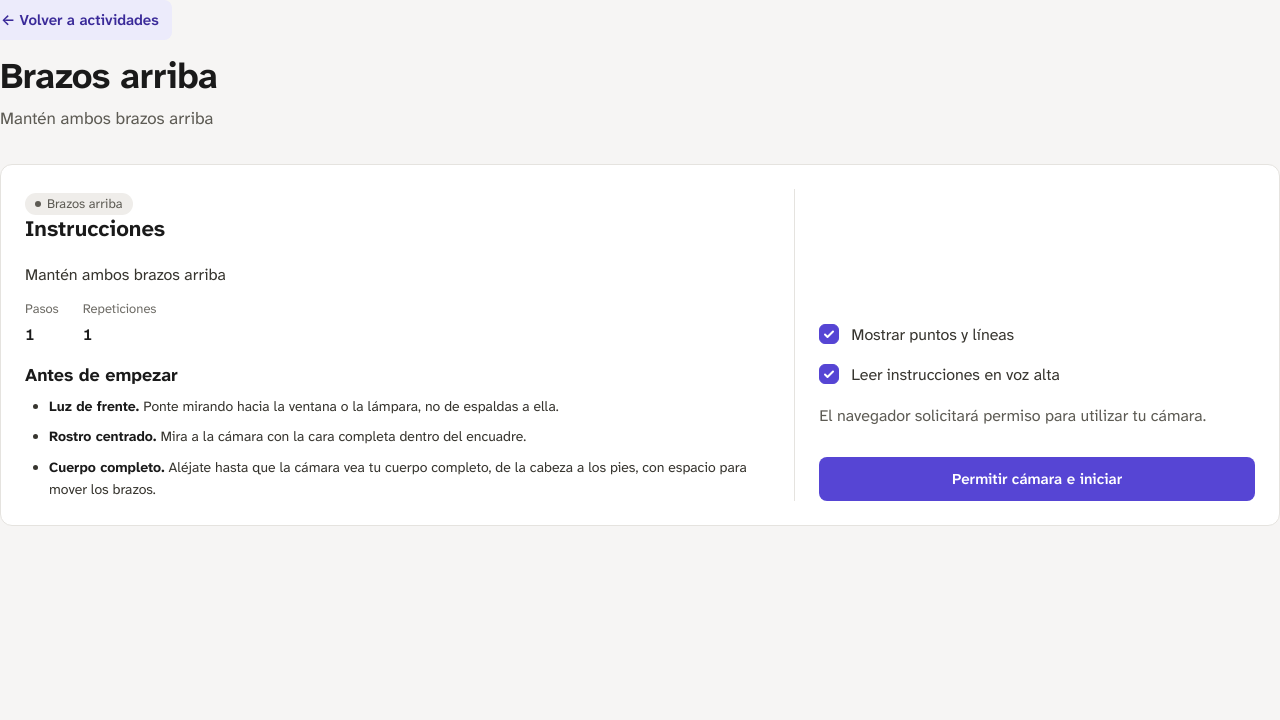
cámara y ciclo de actividad › no crea una sesión si el navegador no admite cámara
The image size is (1280, 720).
Step 1. Click the button "Permitir cámara e iniciar" → (1037, 479), box [819,457,1255,501]
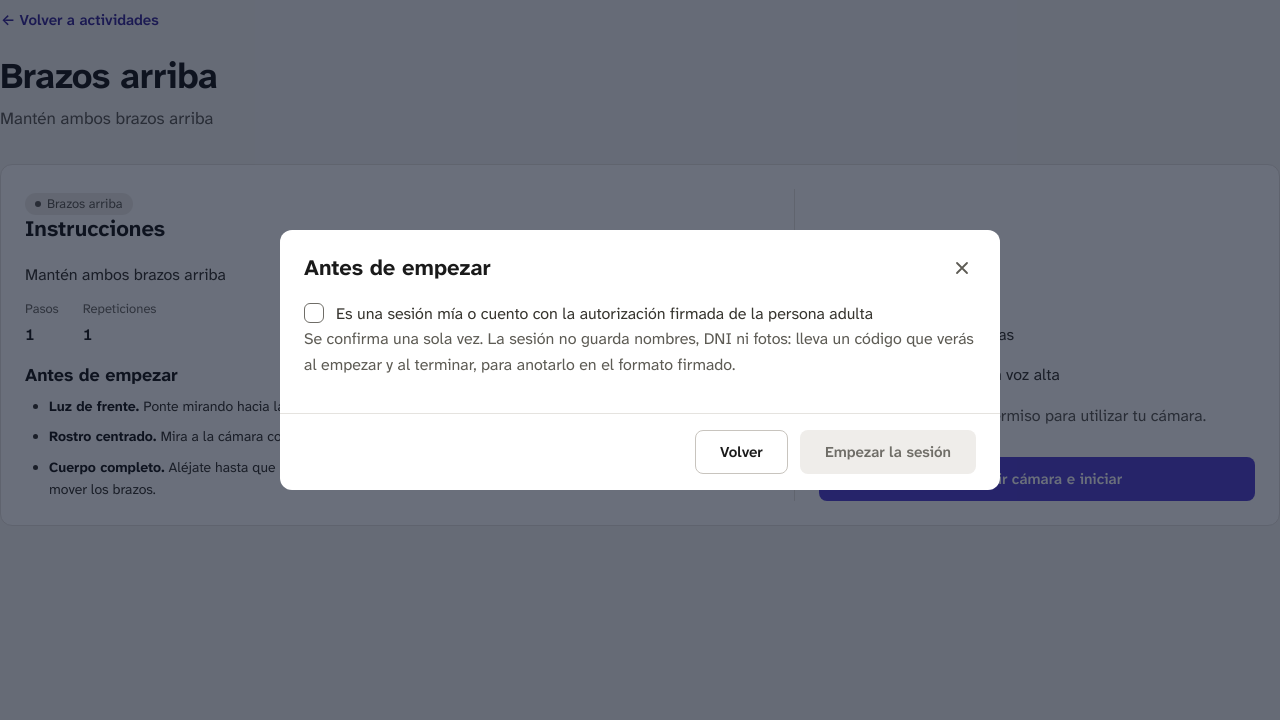
Step 2. Click the checkbox labelled "Es una sesión mía" → (314, 313), box [304,303,324,323]
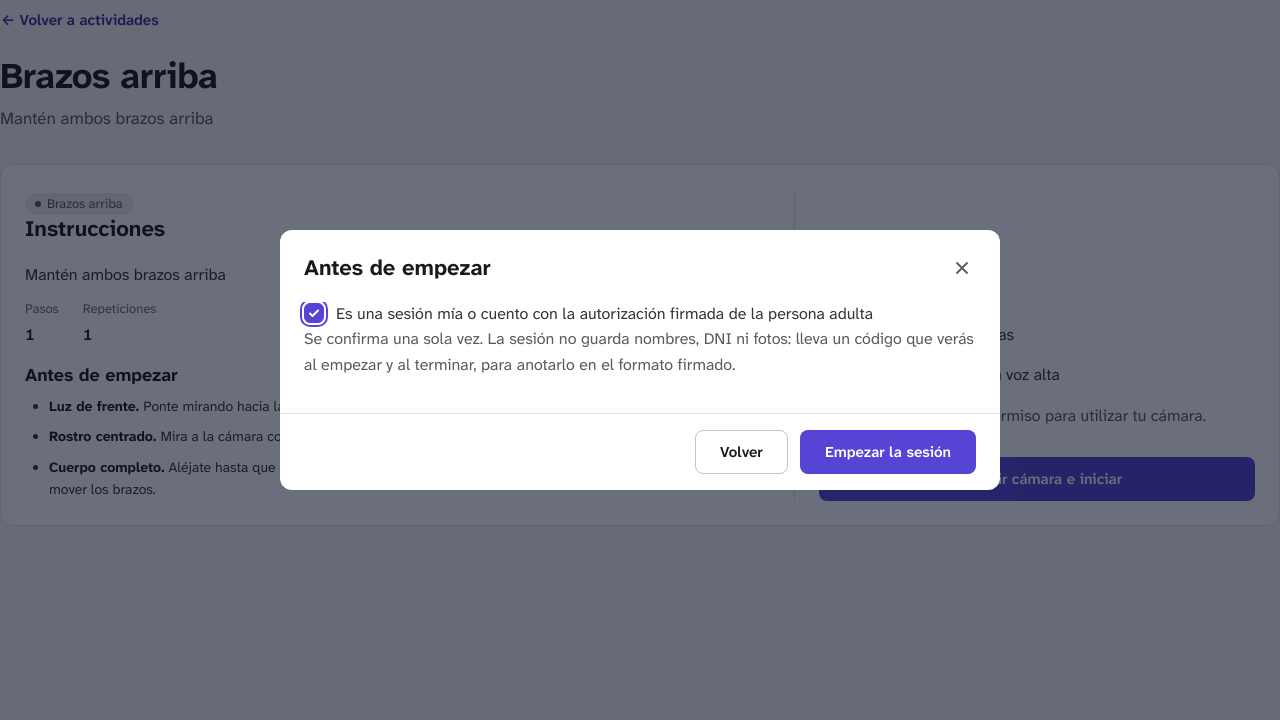
Step 3. Click the button "Empezar la sesión" → (888, 452), box [800,430,976,474]
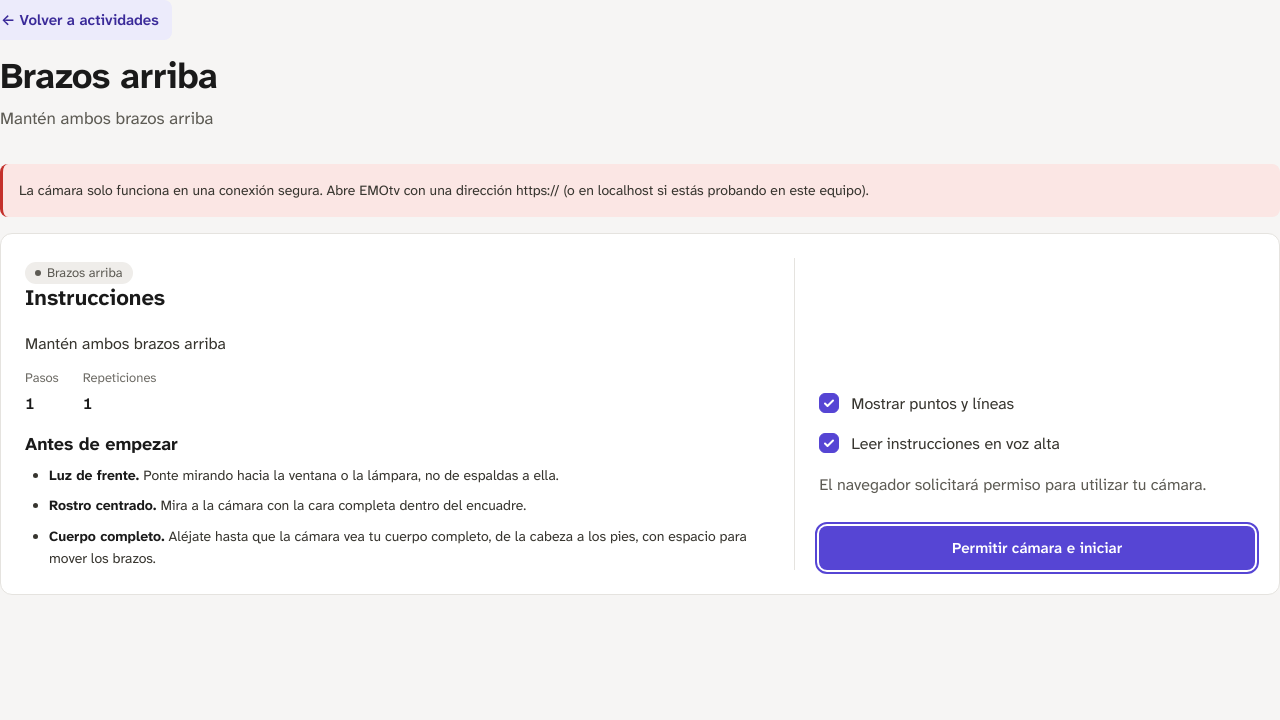
Check: the message shows "conexión segura", box [19,181,869,199]
